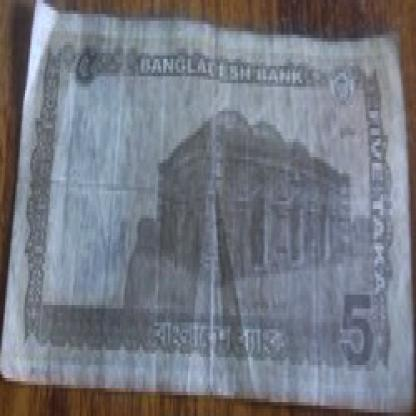Five Taka: (334, 281, 379, 374), (68, 38, 100, 97)
